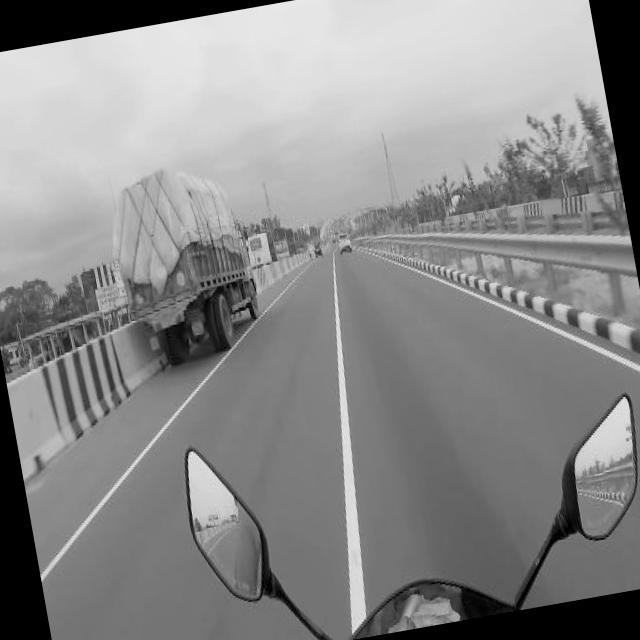car: (335, 230, 351, 252)
motorcycle: (332, 225, 336, 232)
truck: (104, 156, 266, 368)
